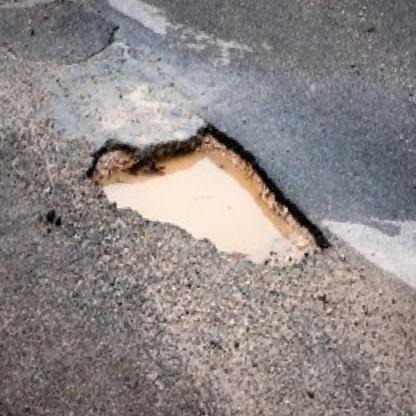pothole: (80, 107, 344, 274)
